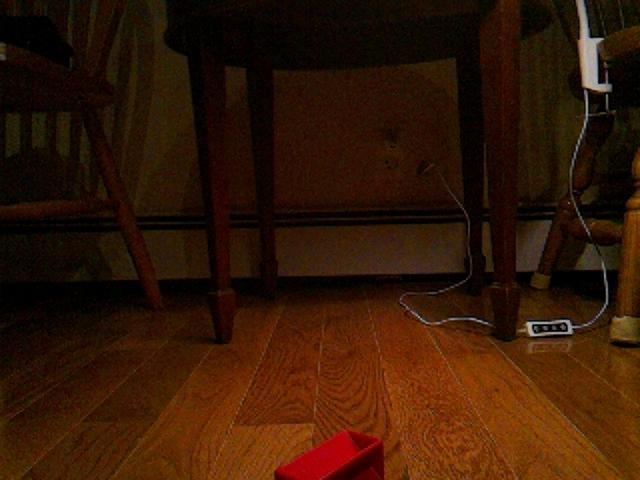red: (273, 428, 387, 480)
